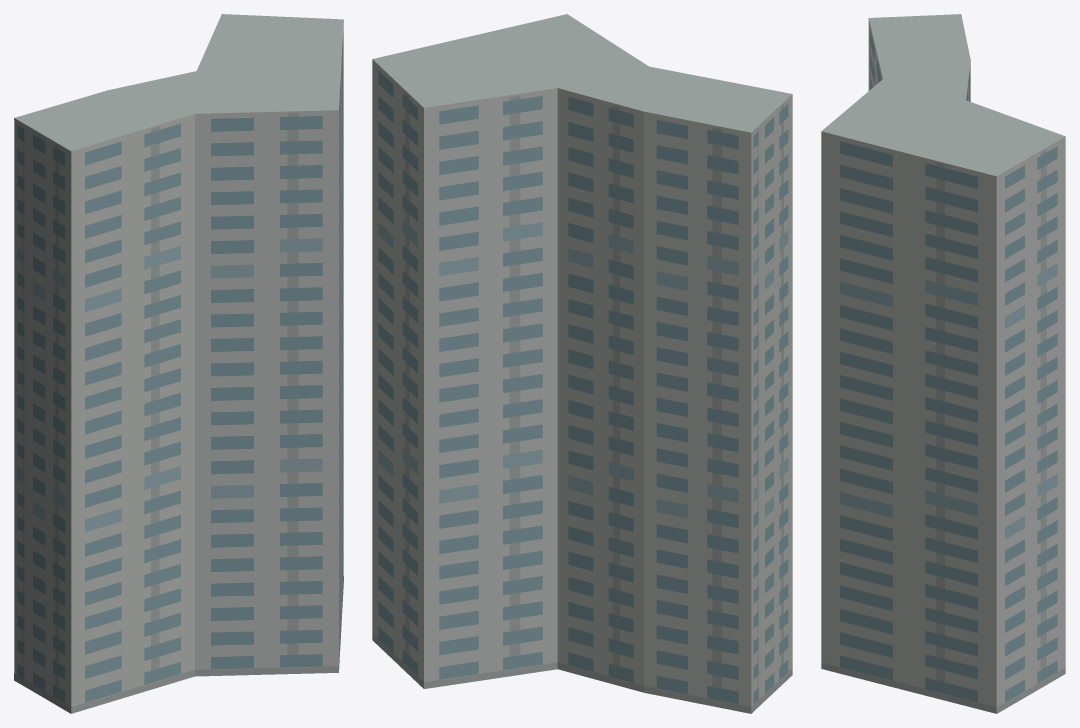
File: residential-cdc2918c-a0a5-4012-bae7-4b61e7a1c221.glb
3 views of the same model, side by side, from view 1: azimuth 30°, elevation 25°; view 2: azimuth 150°, elevation 25°; view 3: azimuth 270°, elevation 25° (orthographic). The views are drawn at different scales.
Visible parts, largest first — view 1: residential-cdc2918c-a0a5-4012-bae7-4b61e7a1c221.tmp; view 2: residential-cdc2918c-a0a5-4012-bae7-4b61e7a1c221.tmp; view 3: residential-cdc2918c-a0a5-4012-bae7-4b61e7a1c221.tmp.
Boxes of the visible parts, left/top/right/bottom form: residential-cdc2918c-a0a5-4012-bae7-4b61e7a1c221.tmp: left=14, top=14, right=343, bottom=713; residential-cdc2918c-a0a5-4012-bae7-4b61e7a1c221.tmp: left=372, top=14, right=792, bottom=713; residential-cdc2918c-a0a5-4012-bae7-4b61e7a1c221.tmp: left=821, top=14, right=1065, bottom=713.
Size of the model in its own units: 44.06 by 68 by 28.02.
